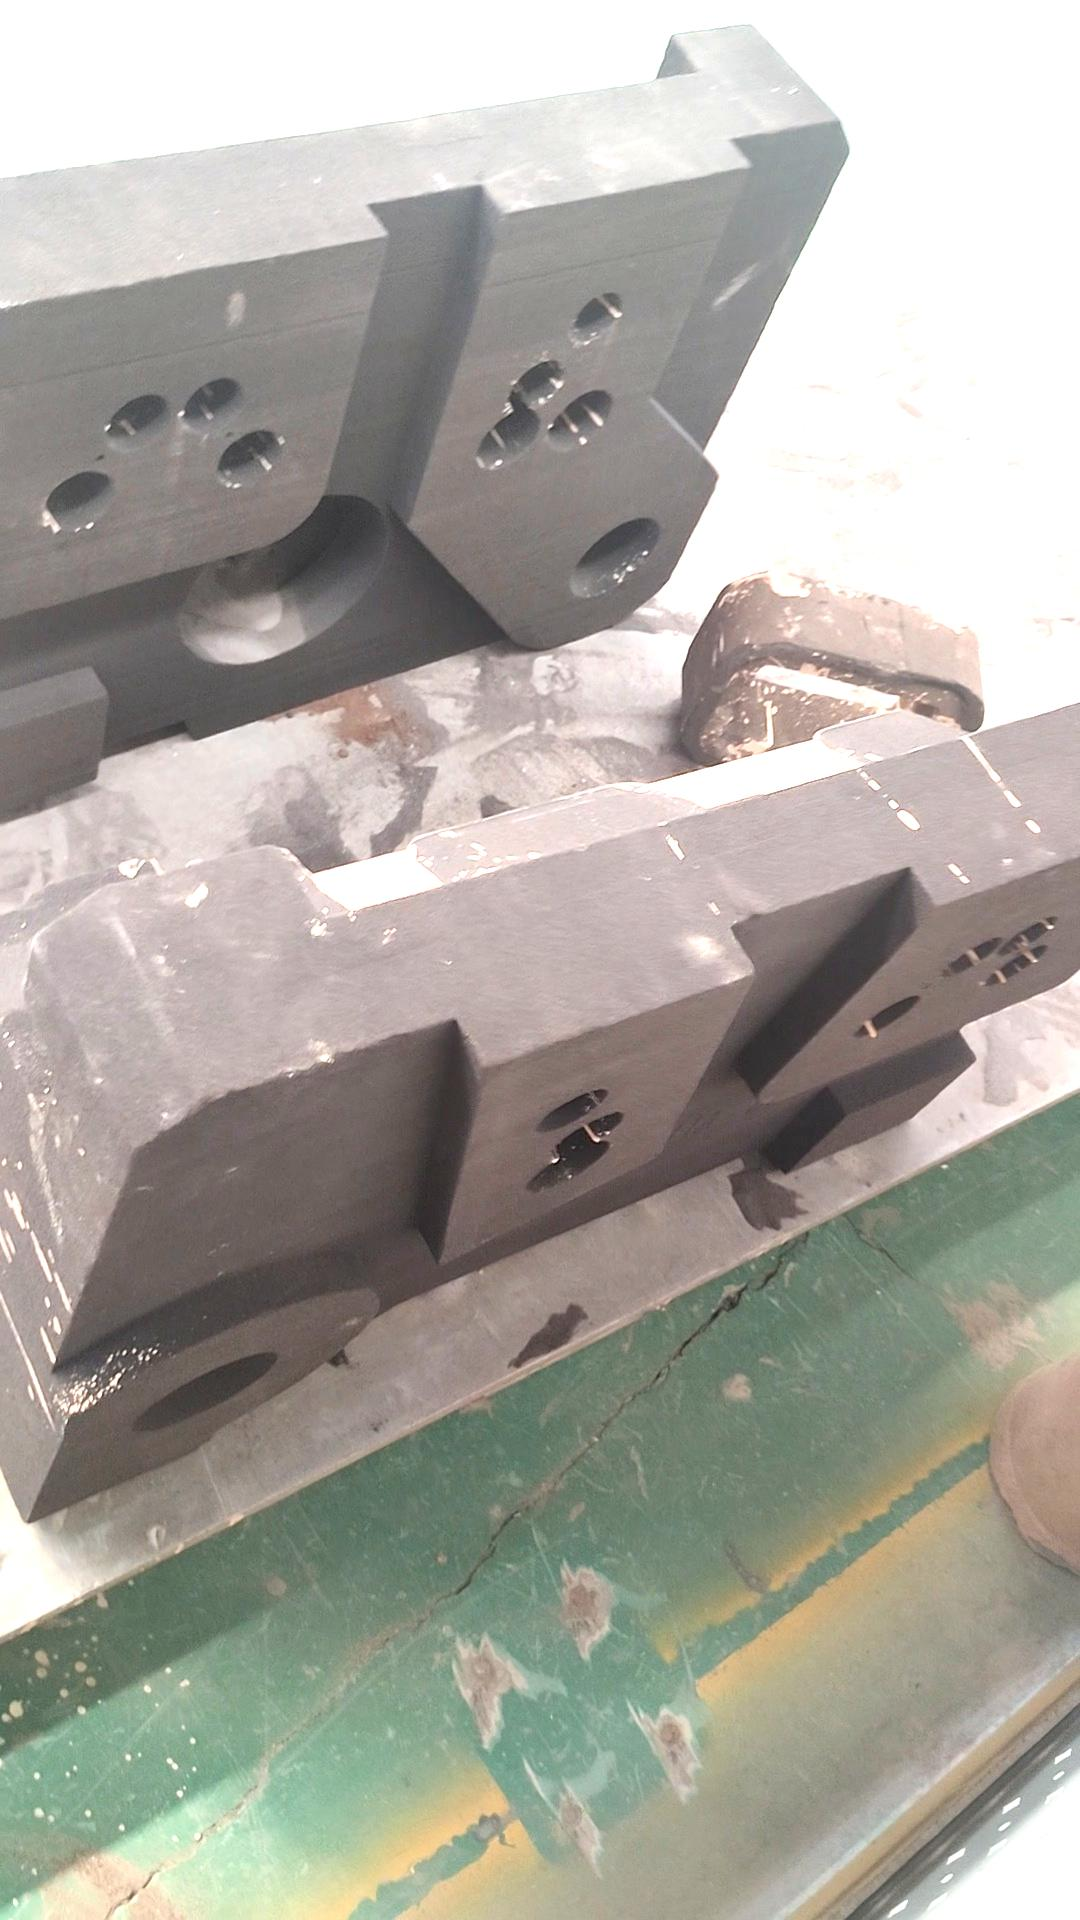pouring hole: (131, 1349, 277, 1436), (566, 518, 659, 600)
